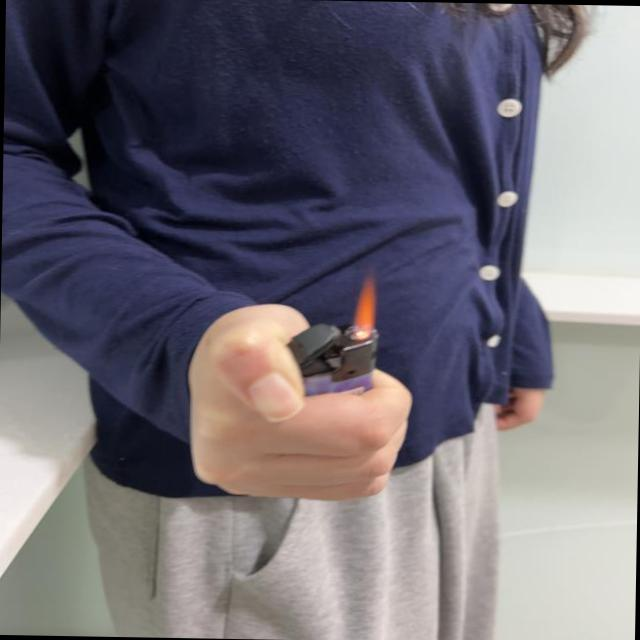Fire: (346, 272, 376, 340)
